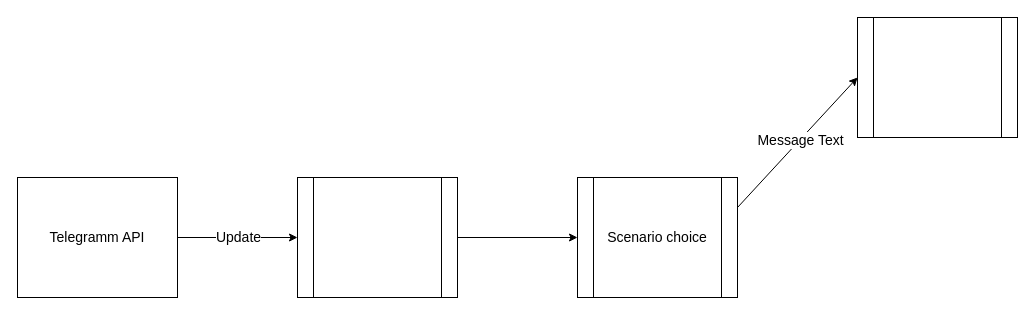
This 1035x315 diagram has some shape labels left out. Here are the shapes that lost their labels. From the top down, the box of each, then its label:
(856, 16, 1018, 138): Parse Command Scenario
(296, 176, 458, 298): UpdateType identification
